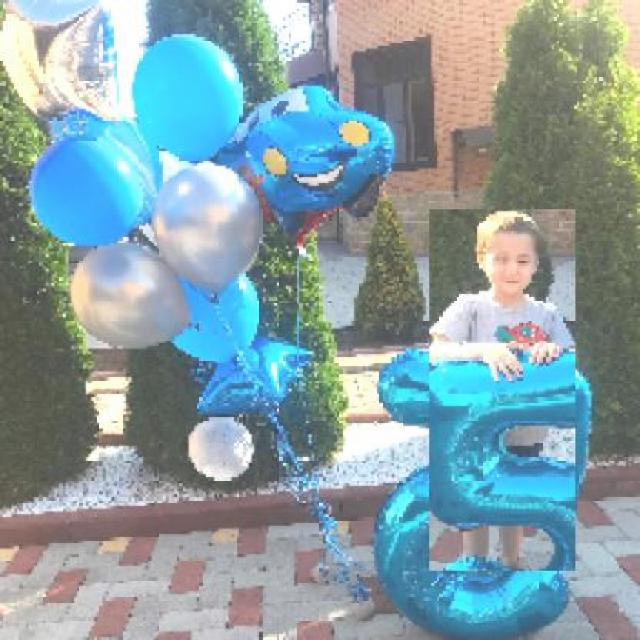child: (428, 210, 575, 573)
